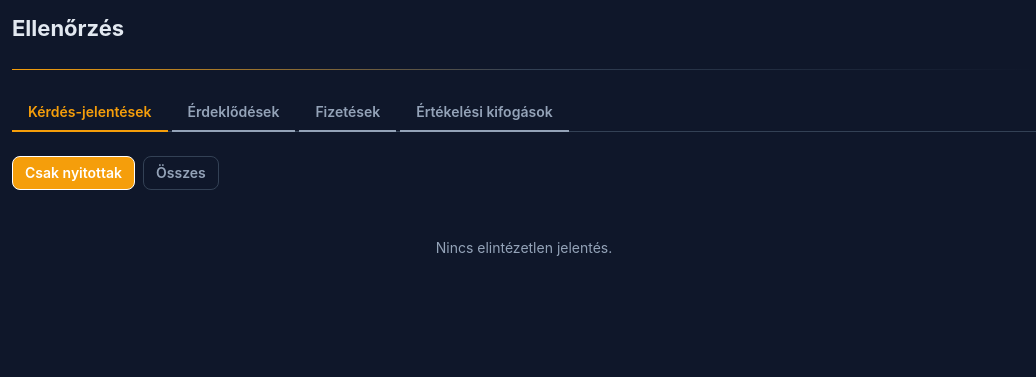
Test: AdminEllenorzesComponent - A5: kérdés-jelentések admin nézet › a Kezelve jelölés gomb eltünteti az érdeklődést (onlyOpen módban)
Click the tab "Érdeklődések" at coordinates (233, 113), box x1=172 y1=94 x2=295 y2=132
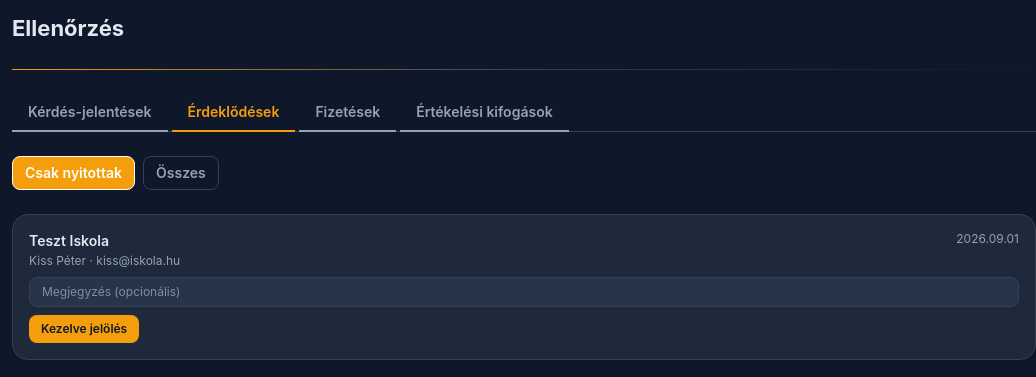
Click the button "Kezelve jelölés" at coordinates (84, 329), box x1=29 y1=315 x2=139 y2=343
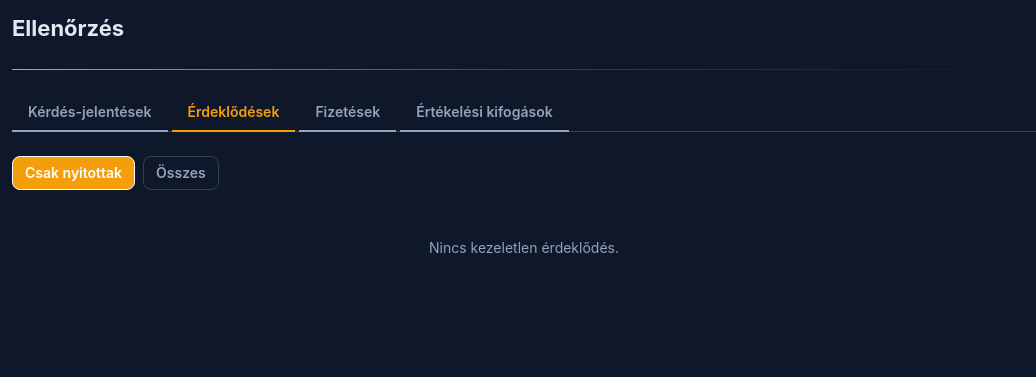
Check: the text "Nincs kezeletlen érdeklődés." is shown, box x1=429 y1=239 x2=619 y2=256
